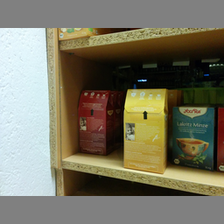tea: (123, 88, 168, 174), (173, 105, 216, 170), (78, 90, 115, 155)
